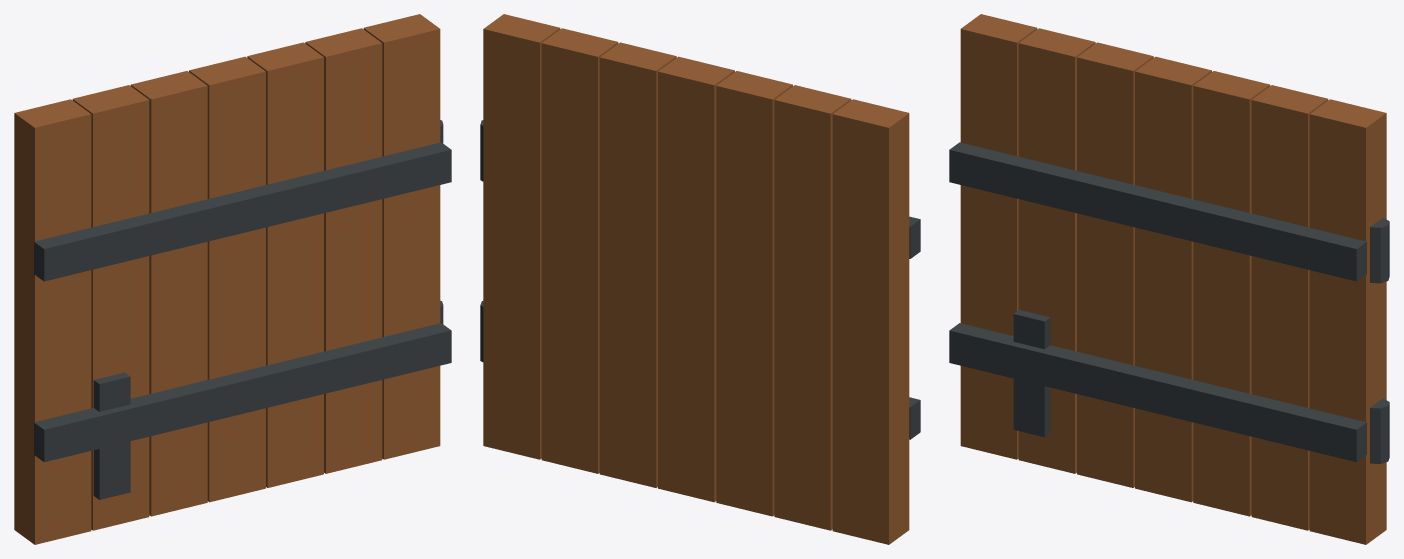
The model's file is 857_hinged_stable_upper_door_leaf.fbx.
3 views of the same model, side by side, from view 1: azimuth 30°, elevation 25°; view 2: azimuth 150°, elevation 25°; view 3: azimuth 330°, elevation 25° (orthographic).
Visible parts, largest first — view 1: 857_hinged_stable_upper_door_leaf; view 2: 857_hinged_stable_upper_door_leaf; view 3: 857_hinged_stable_upper_door_leaf.
Part boxes in pixels (bbox=[...]): 857_hinged_stable_upper_door_leaf: bbox=[14, 14, 451, 544]; 857_hinged_stable_upper_door_leaf: bbox=[480, 14, 920, 544]; 857_hinged_stable_upper_door_leaf: bbox=[949, 14, 1389, 544].
Bounding box in the file's own units: 0.945 × 0.9 × 0.12.
Materials: 1 (1 with a texture image).
